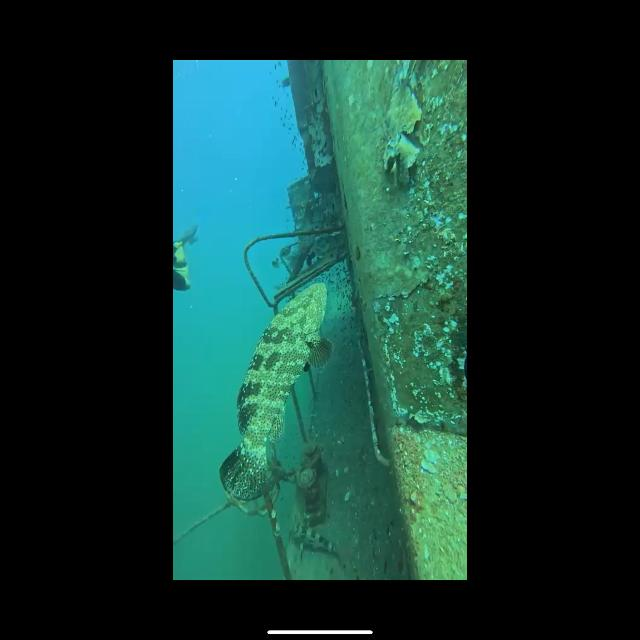Groupers: (218, 278, 334, 504)
